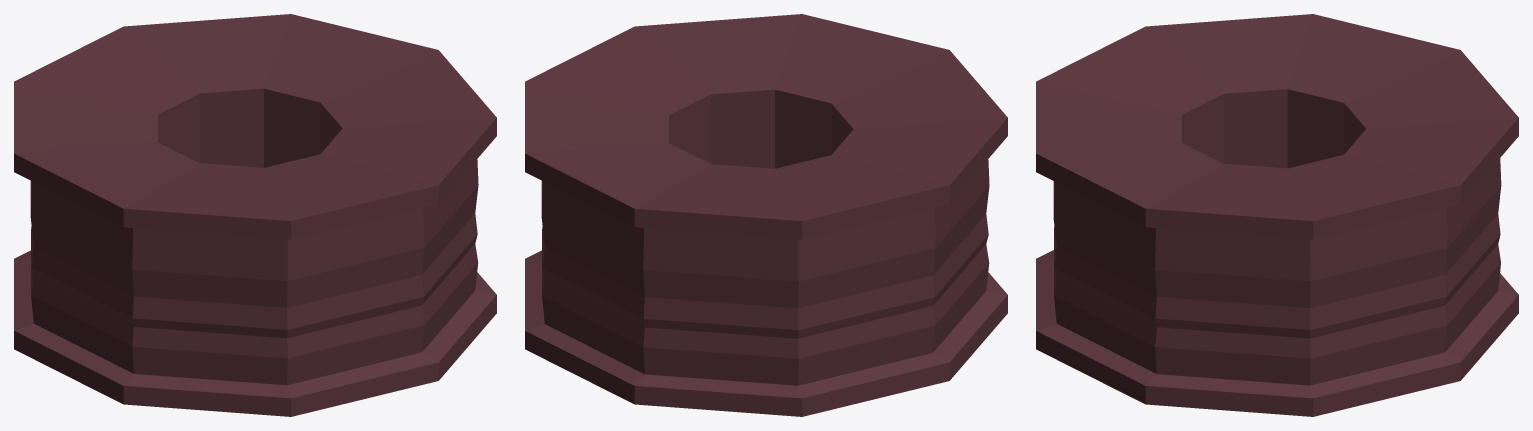
The model's file is conductive-wire.fbx.
The picture shows the model from 3 angles, left to right: view 1: azimuth 30°, elevation 25°; view 2: azimuth 150°, elevation 25°; view 3: azimuth 270°, elevation 25°; orthographic projection.
Parts seen in each view (by area): view 1: conductive-wire; view 2: conductive-wire; view 3: conductive-wire.
Part boxes in pixels (<box>): conductive-wire: <box>14,14,496,416</box>; conductive-wire: <box>525,14,1007,416</box>; conductive-wire: <box>1036,14,1518,416</box>.
Size of the model in its own units: 0.5909 by 0.2604 by 0.5819.
